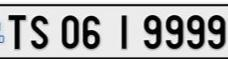0: (60, 12, 80, 50)
6: (80, 11, 102, 51)
9: (163, 11, 185, 52), (185, 12, 206, 52), (143, 11, 163, 51), (207, 12, 226, 52)
I: (118, 10, 133, 54)
S: (28, 11, 50, 52)
T: (6, 11, 28, 52)
